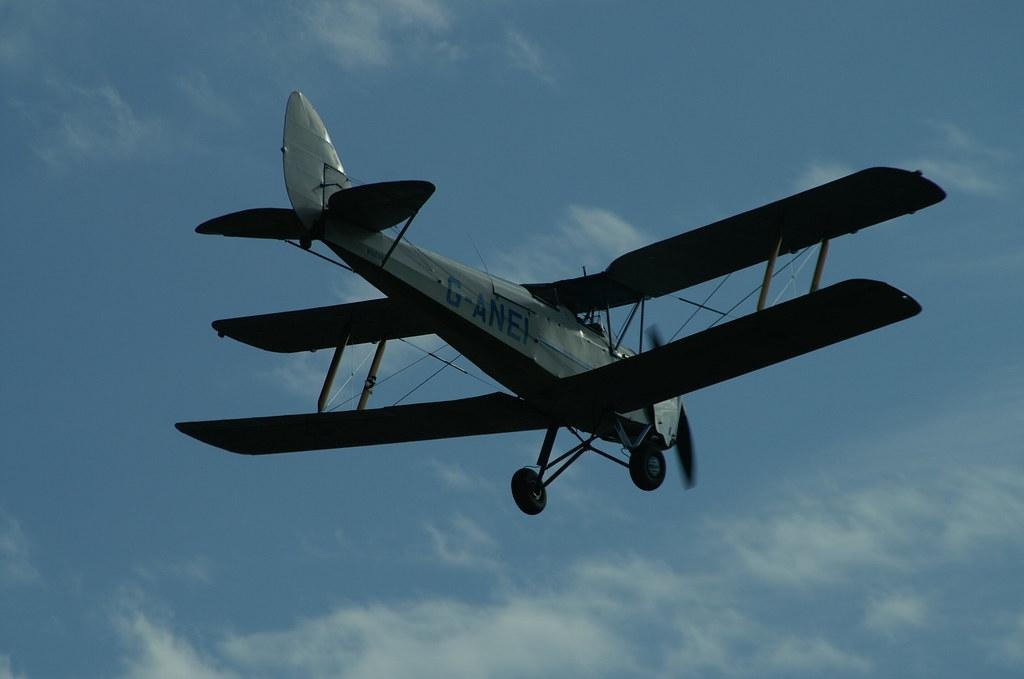plane: (175, 89, 948, 516)
